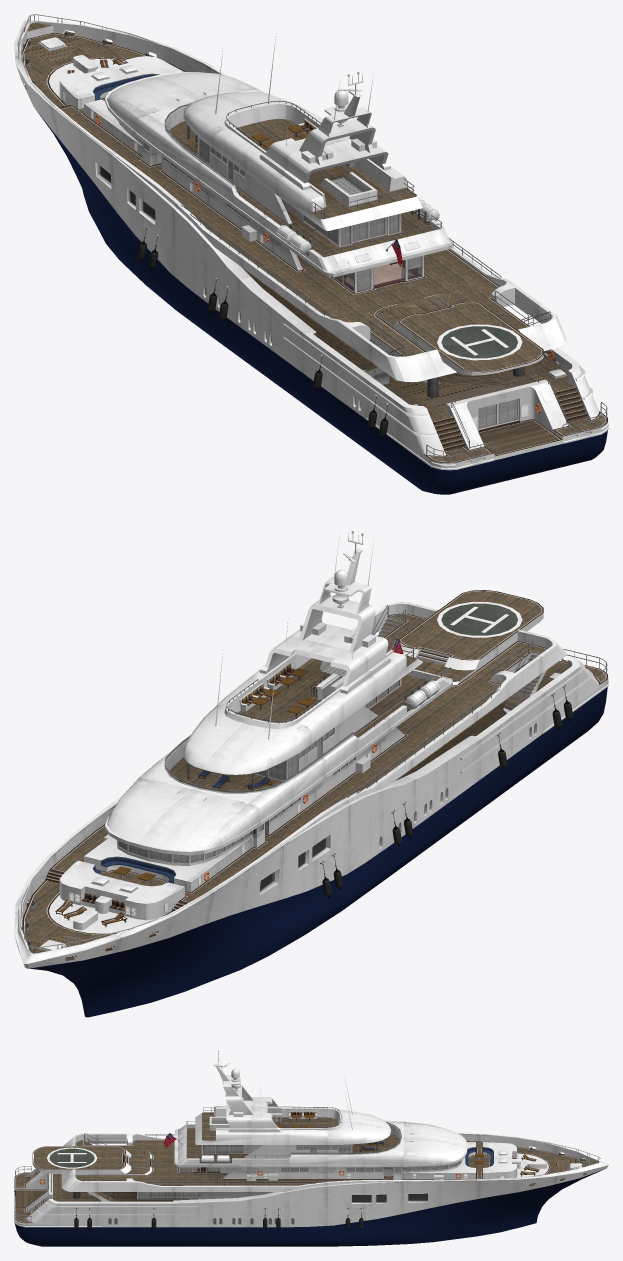
Rendered from frickies_yacht.glb.
3 views of the same model, one above another, from view 1: azimuth 30°, elevation 25°; view 2: azimuth 150°, elevation 25°; view 3: azimuth 270°, elevation 25° (orthographic). The views are drawn at different scales.
Visible parts, largest first — view 1: e2_cj_big_boat_1_CJ_Boat_1_0, e2_cj_big_boat_1_CJ_WOOD_SLAT2_0, e2_cj_big_boat_1_CJ_BLUE_0, e2_cj_big_boat_1_CJ_GLASS2_a_0, e2_cj_big_boat_1_cj_boat_wood_2_0, e2_cj_big_boat_1_CJ_GLASS2CJ_GLASS2_a_0, e2_cj_big_boat_1_CJ_Blinds_1cj_blinds_1_a_0, e2_cj_big_boat_1_CJ_Heli_pad1_0, e2_cj_big_boat_1_CJ_BUMPER_0, e2_cj_big_boat_1_cj_b_carp3_0; view 2: e2_cj_big_boat_1_CJ_Boat_1_0, e2_cj_big_boat_1_CJ_BLUE_0, e2_cj_big_boat_1_CJ_WOOD_SLAT2_0, e2_cj_big_boat_1_CJ_GLASS2_a_0, e2_cj_big_boat_1_cj_boat_wood_2_0, e2_cj_big_boat_1_CJ_GLASS2CJ_GLASS2_a_0, e2_cj_big_boat_1_CJ_Blinds_1cj_blinds_1_a_0, e2_cj_big_boat_1_CJ_Heli_pad1_0, e2_cj_big_boat_1_cj_wood3c_0, e2_cj_big_boat_1_cj_leather_E2_0, e2_cj_big_boat_1_CJ_BUMPER_0, e2_cj_big_boat_1_cj_blue_lether_0; view 3: e2_cj_big_boat_1_CJ_Boat_1_0, e2_cj_big_boat_1_CJ_BLUE_0, e2_cj_big_boat_1_CJ_WOOD_SLAT2_0, e2_cj_big_boat_1_CJ_GLASS2CJ_GLASS2_a_0, e2_cj_big_boat_1_CJ_GLASS2_a_0, e2_cj_big_boat_1_CJ_Blinds_1cj_blinds_1_a_0, e2_cj_big_boat_1_cj_boat_wood_2_0, e2_cj_big_boat_1_CJ_Heli_pad1_0, e2_cj_big_boat_1_cj_wood3c_0, e2_cj_big_boat_1_CJ_BUMPER_0.
Part boxes in pixels (x1,y1,x2,y2): e2_cj_big_boat_1_CJ_Boat_1_0: (14,20,608,470); e2_cj_big_boat_1_CJ_WOOD_SLAT2_0: (23,23,605,461); e2_cj_big_boat_1_CJ_BLUE_0: (35,58,607,494); e2_cj_big_boat_1_CJ_GLASS2_a_0: (20,14,607,462); e2_cj_big_boat_1_cj_boat_wood_2_0: (22,32,607,462); e2_cj_big_boat_1_CJ_GLASS2CJ_GLASS2_a_0: (99,105,516,428); e2_cj_big_boat_1_CJ_Blinds_1cj_blinds_1_a_0: (141,138,516,428); e2_cj_big_boat_1_CJ_Heli_pad1_0: (441,326,518,358); e2_cj_big_boat_1_CJ_BUMPER_0: (137,243,388,436); e2_cj_big_boat_1_cj_b_carp3_0: (179,153,413,286); e2_cj_big_boat_1_CJ_Boat_1_0: (14,530,608,968); e2_cj_big_boat_1_CJ_BLUE_0: (22,687,607,1017); e2_cj_big_boat_1_CJ_WOOD_SLAT2_0: (17,591,605,960); e2_cj_big_boat_1_CJ_GLASS2_a_0: (20,605,607,953); e2_cj_big_boat_1_cj_boat_wood_2_0: (22,590,607,957); e2_cj_big_boat_1_CJ_GLASS2CJ_GLASS2_a_0: (118,680,399,891); e2_cj_big_boat_1_CJ_Blinds_1cj_blinds_1_a_0: (119,672,398,862); e2_cj_big_boat_1_CJ_Heli_pad1_0: (441,603,517,635); e2_cj_big_boat_1_cj_wood3c_0: (55,668,316,927); e2_cj_big_boat_1_cj_leather_E2_0: (56,664,328,923); e2_cj_big_boat_1_CJ_BUMPER_0: (322,703,573,896); e2_cj_big_boat_1_cj_blue_lether_0: (93,770,269,883); e2_cj_big_boat_1_CJ_Boat_1_0: (14,1050,608,1227); e2_cj_big_boat_1_CJ_BLUE_0: (15,1159,602,1246); e2_cj_big_boat_1_CJ_WOOD_SLAT2_0: (16,1112,598,1222); e2_cj_big_boat_1_CJ_GLASS2CJ_GLASS2_a_0: (138,1123,460,1202); e2_cj_big_boat_1_CJ_GLASS2_a_0: (15,1107,600,1222); e2_cj_big_boat_1_CJ_Blinds_1cj_blinds_1_a_0: (138,1144,460,1198); e2_cj_big_boat_1_cj_boat_wood_2_0: (14,1140,590,1222); e2_cj_big_boat_1_CJ_Heli_pad1_0: (49,1148,94,1167); e2_cj_big_boat_1_cj_wood3c_0: (276,1115,539,1176); e2_cj_big_boat_1_CJ_BUMPER_0: (74,1219,363,1228).
Bounding box in the file's own units: 0.4383 × 0.6301 × 1.98.
Materials: 43 (39 with a texture image).
